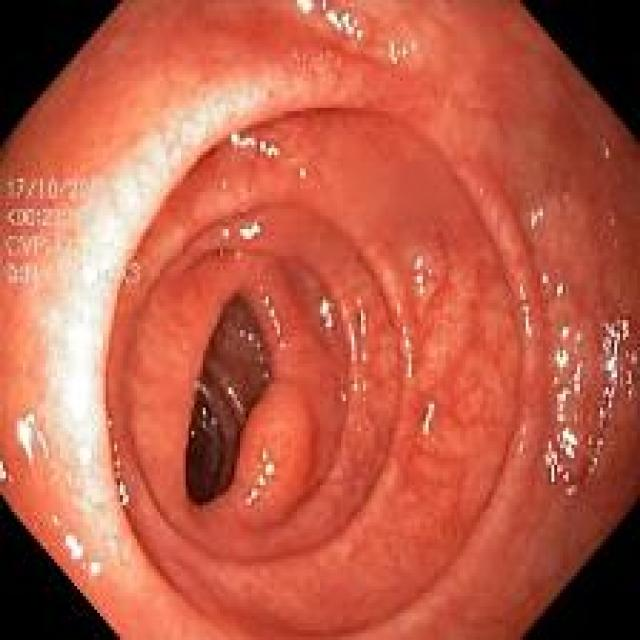Polyps: (221, 383, 312, 527)
